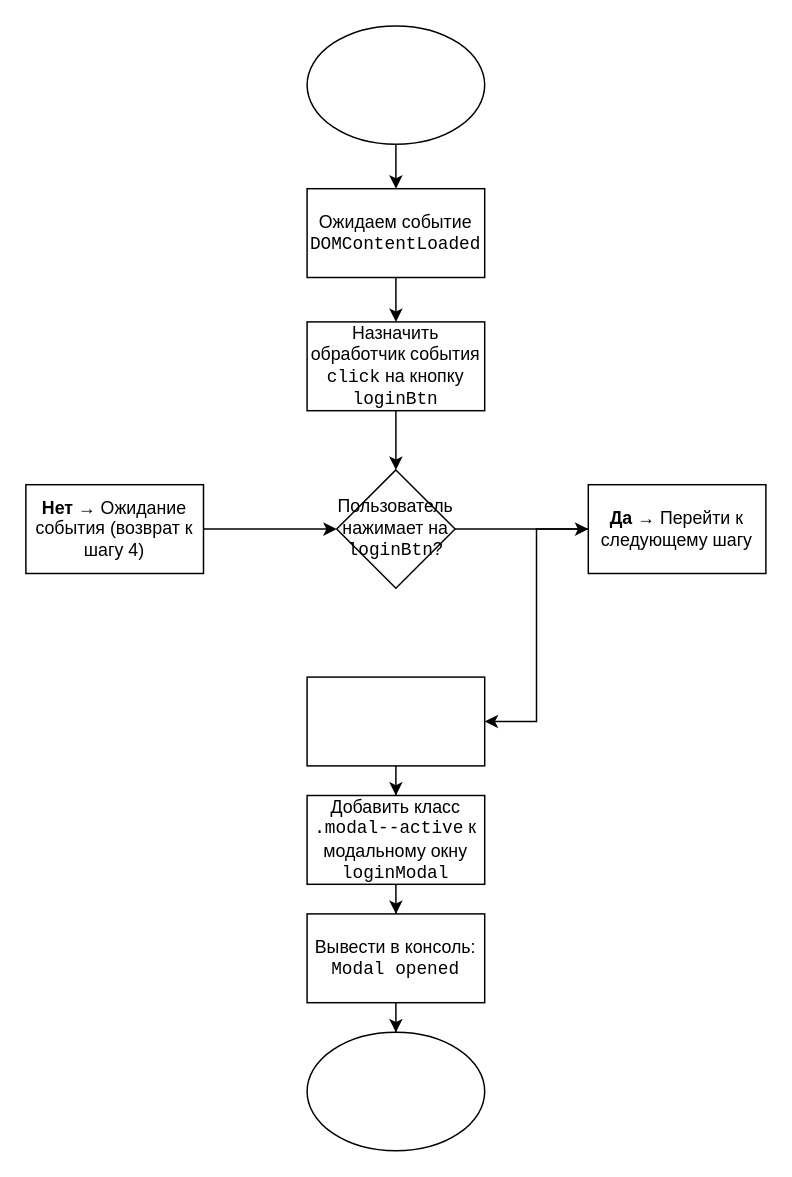
Some shapes in this 792 by 1177 pixel diagram are drawn without their labels. Each missing label, with the centre of its shape:
"Конец" goes at (x=395, y=1091).
"Начало" goes at (x=395, y=84).
"Отменить стандартное поведение ссылки (через e.preventDefault() )" goes at (x=395, y=721).
